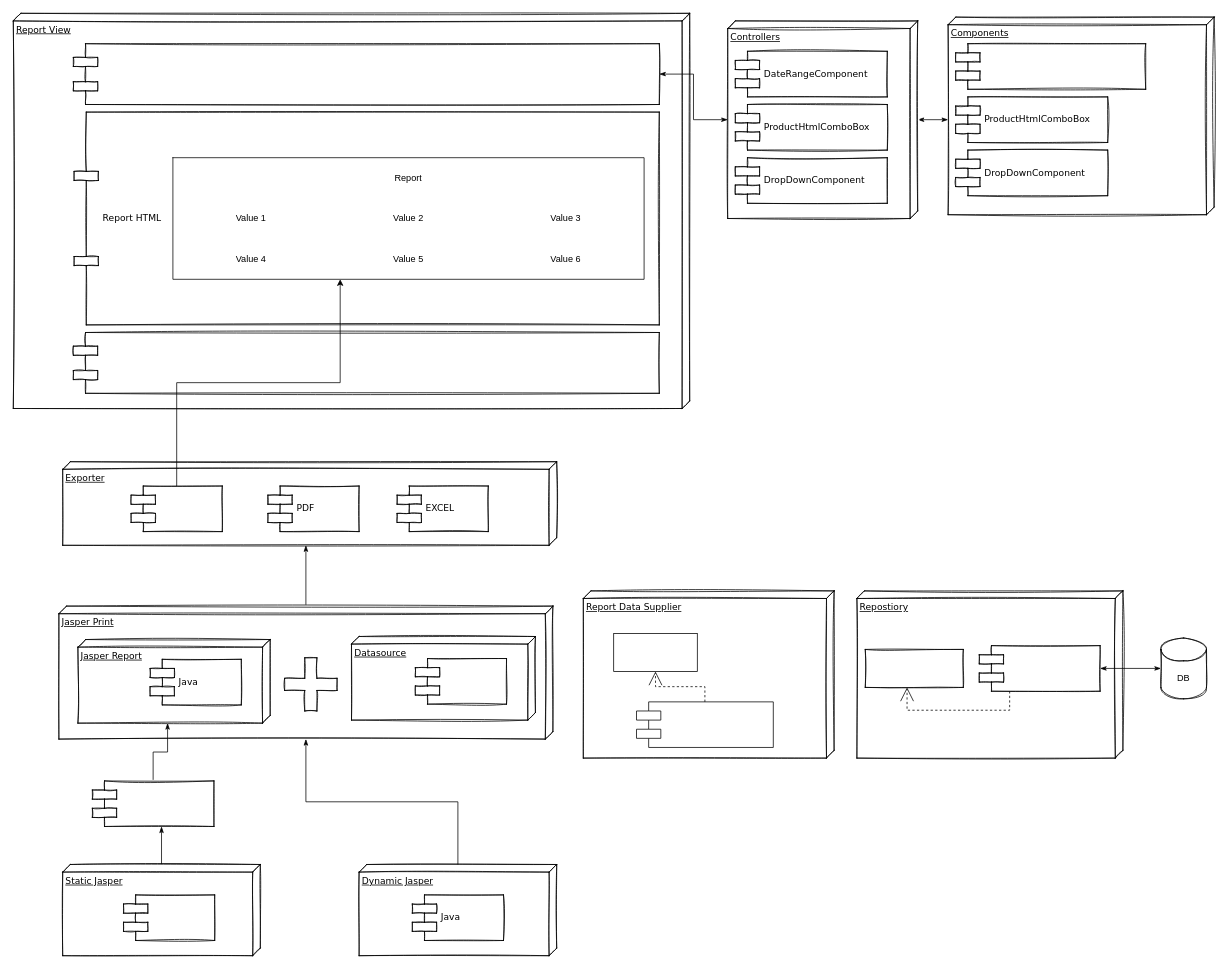
This 1227x969 diagram has some shape labels left out. Here are the shapes that lost their labels. From the top down, the centre of each, then its label:
At point 366,73: "Report Form Map<ComponentId, Object>".
At point 1050,66: "DateRangeComponent (Supplier)".
At point 366,362: "Report Actions".
At point 176,508: "HTML".
At point 655,652: "«interface» ReportManager".
At point 913,668: "«interface» ReportRepository".
At point 1039,668: "ModuleReportRepo".
At point 461,681: "Supplier".
At point 704,724: "ModuleReportManager".
At point 153,803: "JasperFileReader".
At point 169,917: "JRXML".
